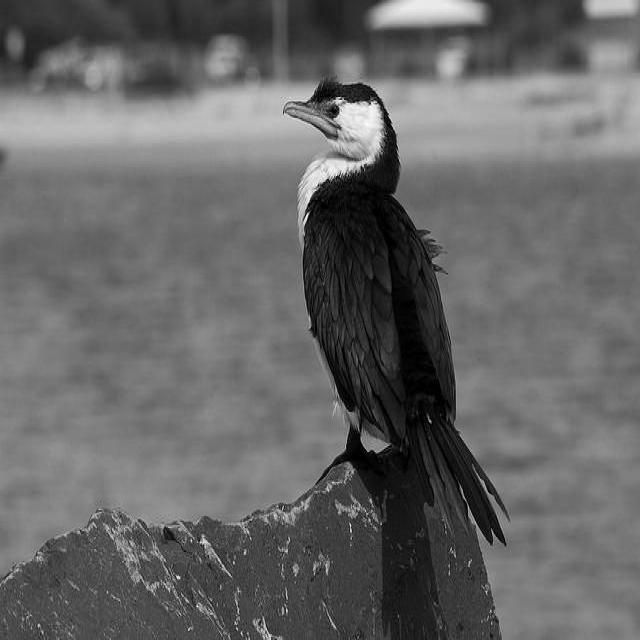vehicle: (29, 44, 117, 93), (120, 51, 180, 101), (204, 33, 257, 79)
